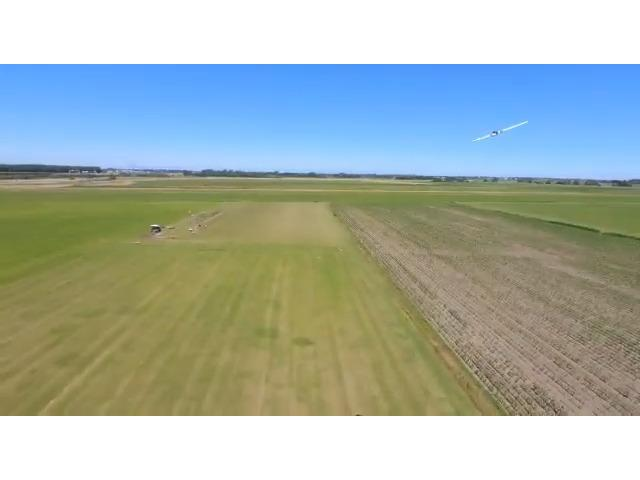Anti-Drone: (460, 114, 540, 146)
